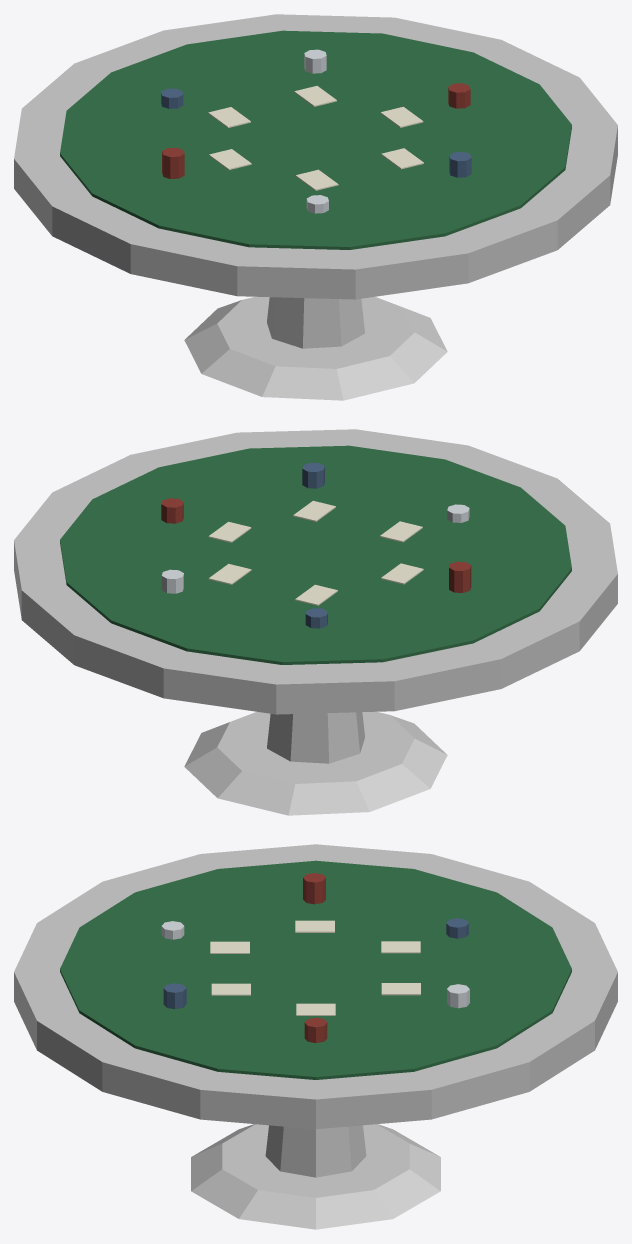
The model's file is poker_table.obj.
3 views of the same model, one above another, from view 1: azimuth 30°, elevation 25°; view 2: azimuth 150°, elevation 25°; view 3: azimuth 270°, elevation 25° (orthographic).
Parts seen in each view (by area): view 1: poker_table; view 2: poker_table; view 3: poker_table.
Part boxes in pixels (bbox=[...]): poker_table: bbox=[14, 14, 617, 400]; poker_table: bbox=[14, 429, 617, 815]; poker_table: bbox=[14, 844, 617, 1229].
Bounding box in the file's own units: 1.84 × 0.7633 × 1.84.
